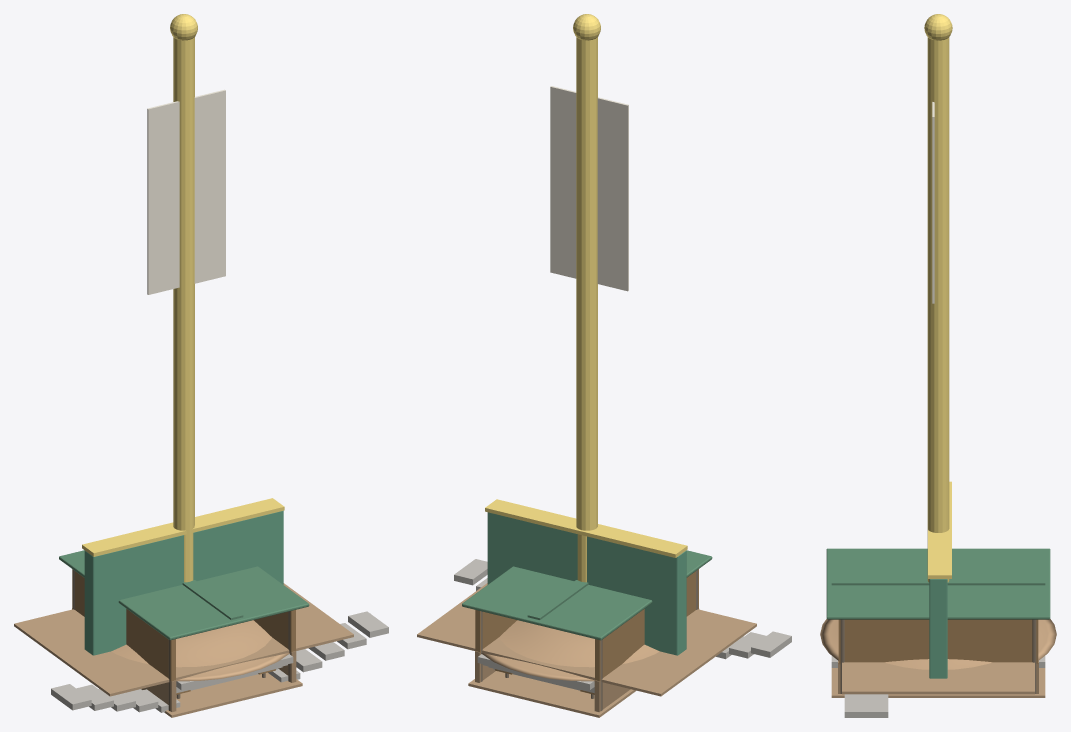
File: harbor-kit.fbx
3 renders of one model, left to right at view 1: azimuth 30°, elevation 25°; view 2: azimuth 150°, elevation 25°; view 3: azimuth 270°, elevation 25°, orthographic.
Parts seen in each view (by area): view 1: foul-pole, dugout-1b, wall-panel, dugout-3b, warning-track, mound; view 2: foul-pole, wall-panel, dugout-3b, dugout-1b, warning-track, mound; view 3: dugout-1b, foul-pole, dugout-3b, warning-track, wall-panel, mound.
Part boxes in pixels (x1,y1,x2,y2): foul-pole: (147, 14, 225, 582); dugout-1b: (51, 550, 309, 717); wall-panel: (82, 498, 284, 655); dugout-3b: (59, 551, 388, 717); warning-track: (14, 583, 353, 696); mound: (111, 620, 289, 681); foul-pole: (550, 14, 628, 582); wall-panel: (485, 499, 687, 655); dugout-3b: (454, 551, 711, 717); dugout-1b: (462, 550, 791, 717); warning-track: (417, 583, 756, 696); mound: (481, 620, 659, 681); dugout-1b: (826, 548, 1050, 697); foul-pole: (924, 14, 952, 582); dugout-3b: (826, 548, 1050, 717); warning-track: (842, 662, 1034, 694); wall-panel: (928, 481, 951, 678); mound: (820, 619, 1056, 669).
Size of what is drawn, in the model's own units: 28.52 by 55.81 by 18.4.
